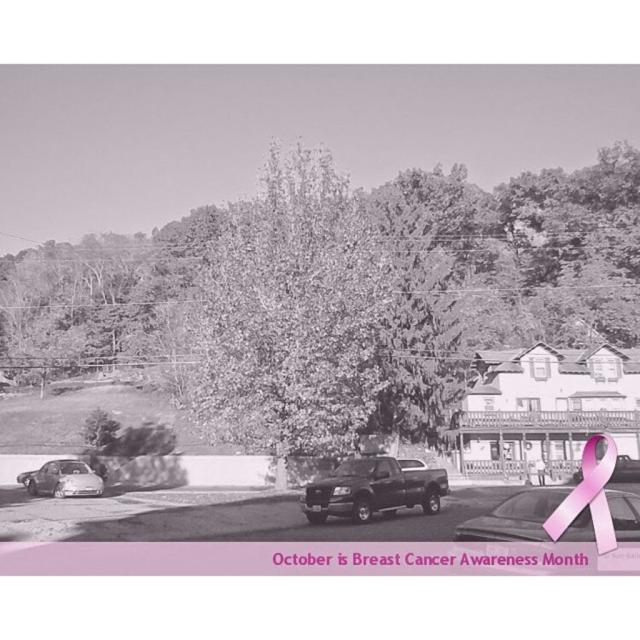car: (27, 458, 98, 497)
